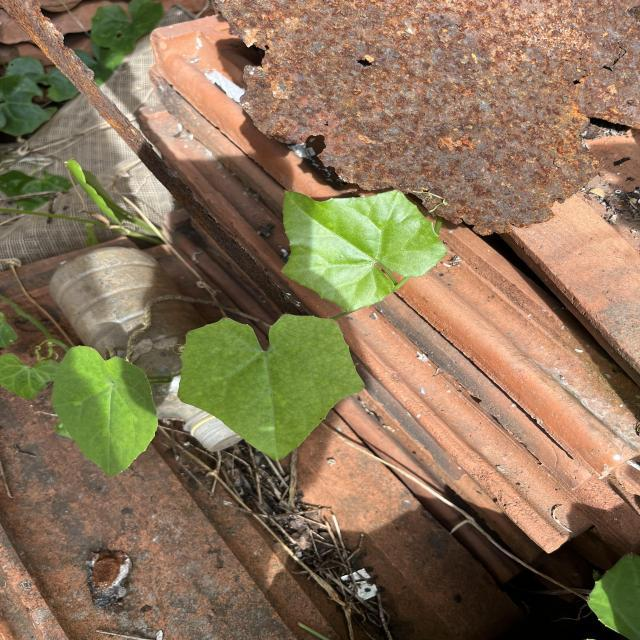Coccinia grandis: (176, 312, 366, 462), (280, 188, 448, 314)
